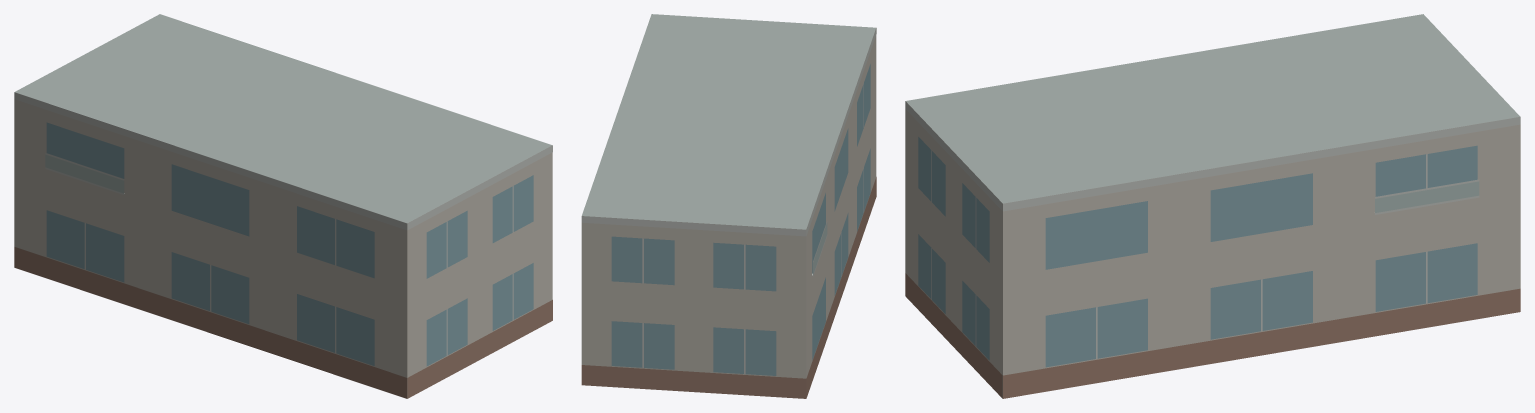
Rendered from survey-upis-32945222.glb.
3 renders of one model, left to right at view 1: azimuth 30°, elevation 25°; view 2: azimuth 150°, elevation 25°; view 3: azimuth 270°, elevation 25°, orthographic. The views are drawn at different scales.
Parts seen in each view (by area): view 1: survey-upis-32945222.tmp; view 2: survey-upis-32945222.tmp; view 3: survey-upis-32945222.tmp.
Part boxes in pixels (x1=…): survey-upis-32945222.tmp: x1=14, y1=14, x2=552, y2=398; survey-upis-32945222.tmp: x1=581, y1=14, x2=876, y2=398; survey-upis-32945222.tmp: x1=905, y1=14, x2=1520, y2=398.
Bounding box in the file's own units: 12.73 × 6.1 × 17.43.
